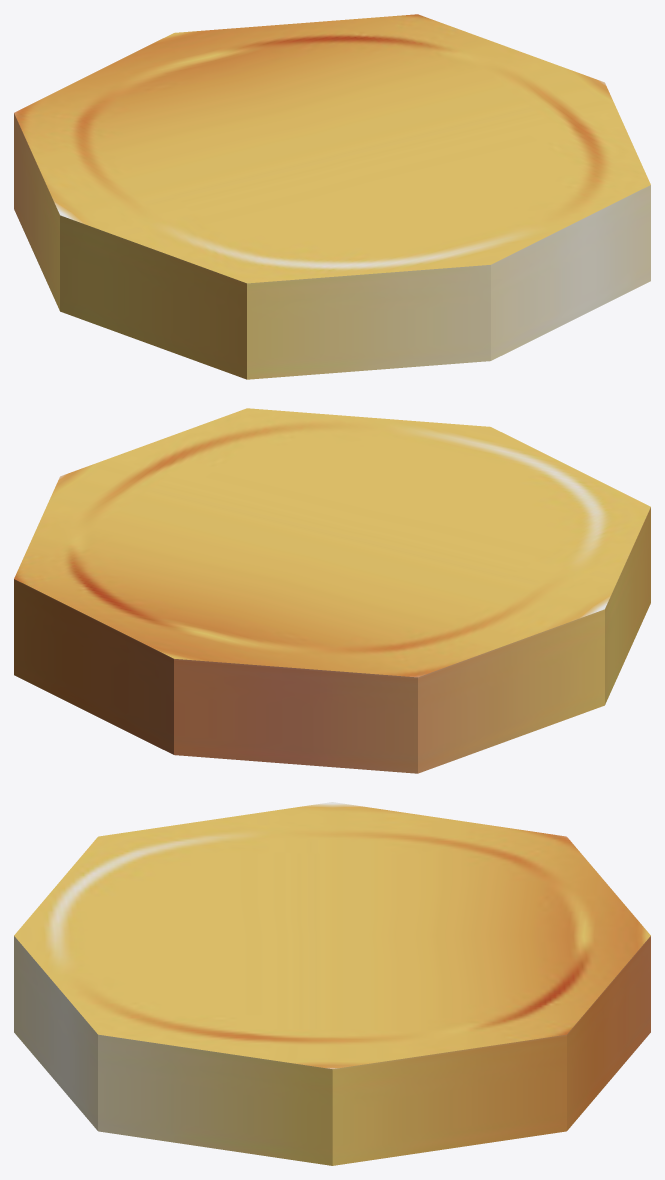
Rendered from coin.gltf.
3 views of the same model, one above another, from view 1: azimuth 30°, elevation 25°; view 2: azimuth 150°, elevation 25°; view 3: azimuth 270°, elevation 25° (orthographic).
Visible parts, largest first — view 1: Cube; view 2: Cube; view 3: Cube.
Part boxes in pixels (left/top/right/bottom): Cube: left=14, top=14, right=650, bottom=379; Cube: left=14, top=408, right=650, bottom=773; Cube: left=14, top=802, right=650, bottom=1165.
Size of the model in its own units: 1 by 0.1692 by 1.01.
Materials: 1 (1 with a texture image).
